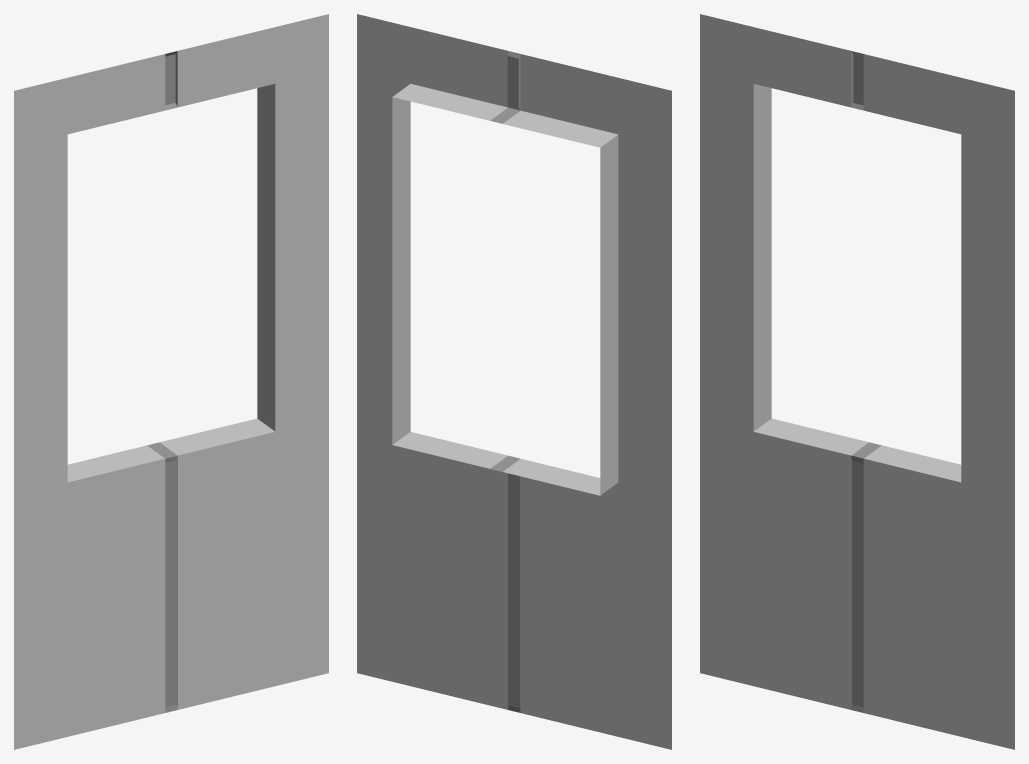
Rendered from Ext-ConcreteSmallWindowframe.fbx.
3 views of the same model, side by side, from view 1: azimuth 30°, elevation 25°; view 2: azimuth 150°, elevation 25°; view 3: azimuth 330°, elevation 25° (orthographic).
Parts seen in each view (by area): view 1: Ext-ConcreteSmallWindowframe; view 2: Ext-ConcreteSmallWindowframe; view 3: Ext-ConcreteSmallWindowframe.
Part boxes in pixels (x1,y1,x2,y2): Ext-ConcreteSmallWindowframe: [14, 14, 328, 749]; Ext-ConcreteSmallWindowframe: [357, 14, 671, 749]; Ext-ConcreteSmallWindowframe: [700, 14, 1014, 749].
Size of the model in its own units: 100 by 200 by 10.
